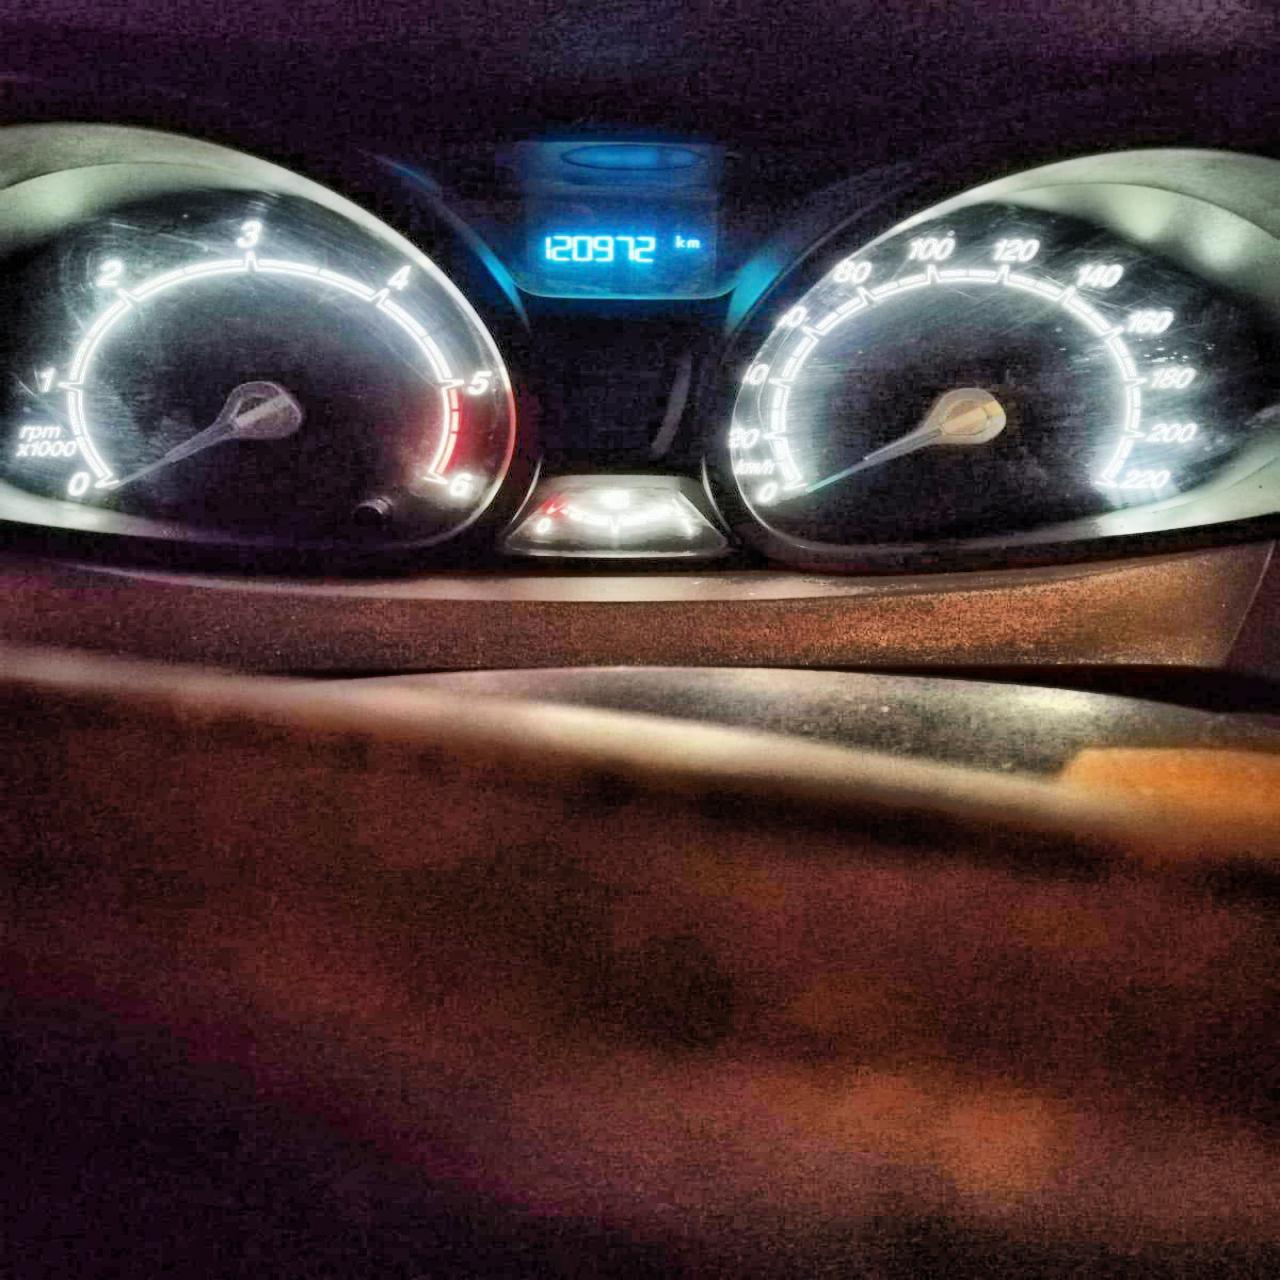0: (572, 234, 592, 260)
1: (542, 233, 550, 263)
2: (635, 236, 656, 265), (551, 233, 571, 260)
7: (613, 234, 635, 260)
9: (593, 236, 613, 261)
X: (675, 233, 685, 247), (687, 238, 699, 247)
odometer: (531, 218, 719, 286)
